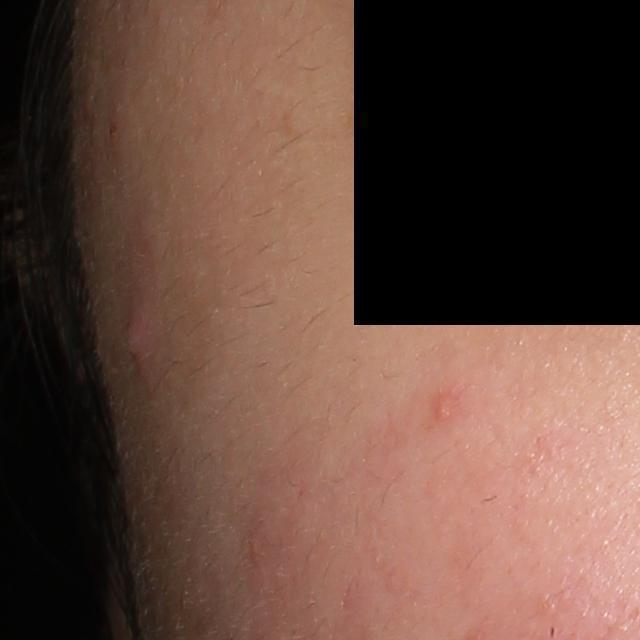papule: (118, 297, 156, 366), (430, 392, 453, 424)
